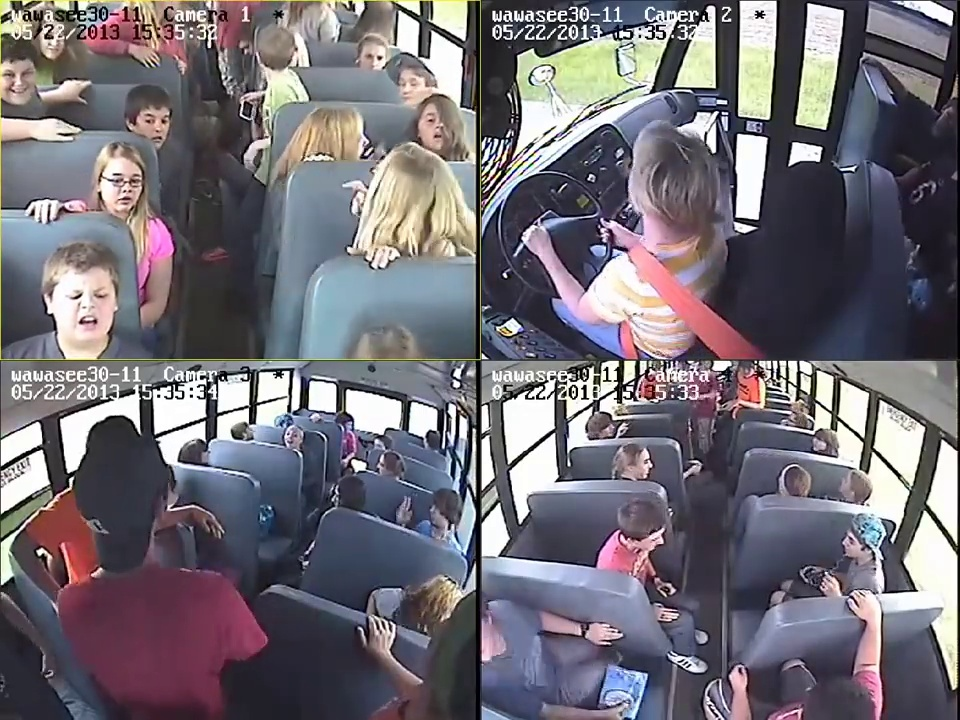face: (57, 271, 112, 342), (104, 165, 144, 211), (422, 105, 451, 151), (141, 105, 171, 146), (2, 66, 34, 103), (400, 73, 428, 103), (360, 42, 385, 70), (633, 453, 654, 480), (842, 529, 859, 561), (283, 429, 300, 446)
